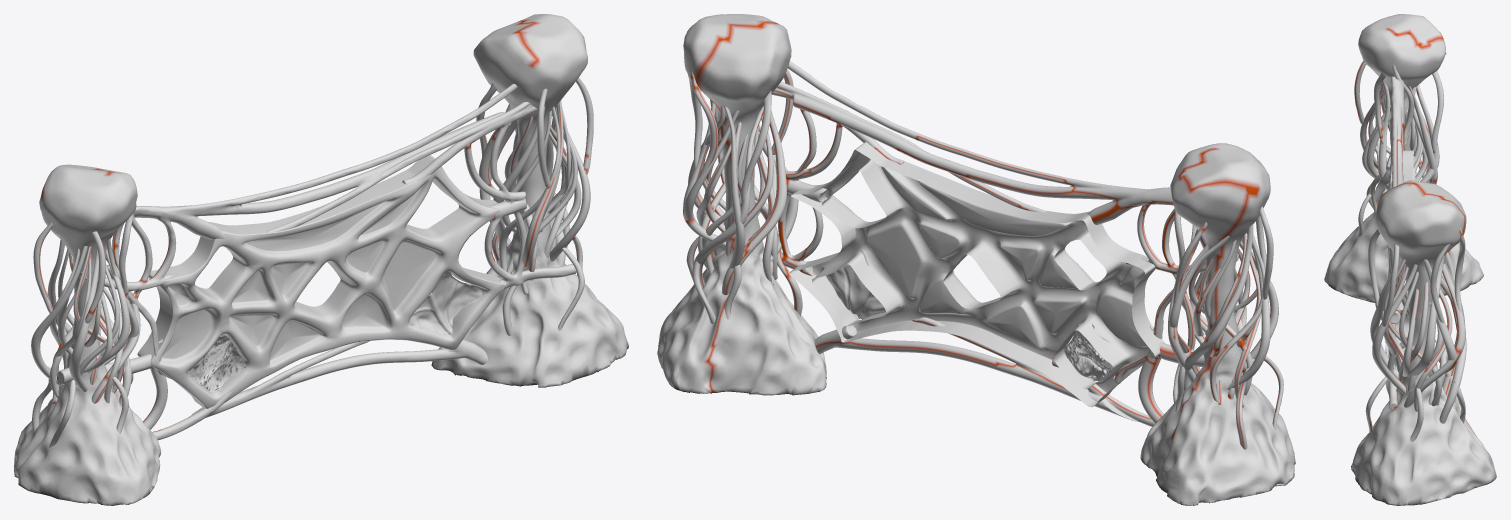
The model's file is SM_Trou3_low.fbx.
3 views of the same model, side by side, from view 1: azimuth 30°, elevation 25°; view 2: azimuth 150°, elevation 25°; view 3: azimuth 270°, elevation 25° (orthographic). The views are drawn at different scales.
Visible parts, largest first — view 1: HolePillar_013_SeamsColor, polySurface5, PM3D_Cylinder3D1_3_SeamsColor, HolePillar_089; view 2: HolePillar_013_SeamsColor, polySurface5, PM3D_Cylinder3D1_3_SeamsColor, HolePillar_089; view 3: HolePillar_013_SeamsColor, PM3D_Cylinder3D1_3_SeamsColor, polySurface5.
Boxes of the visible parts, x1=… form: HolePillar_013_SeamsColor: x1=14, y1=14, x2=628, y2=505; polySurface5: x1=137, y1=155, x2=505, y2=408; PM3D_Cylinder3D1_3_SeamsColor: x1=57, y1=84, x2=576, y2=440; HolePillar_089: x1=187, y1=271, x2=484, y2=394; HolePillar_013_SeamsColor: x1=657, y1=14, x2=1295, y2=505; polySurface5: x1=789, y1=142, x2=1165, y2=407; PM3D_Cylinder3D1_3_SeamsColor: x1=771, y1=61, x2=1254, y2=426; HolePillar_089: x1=826, y1=249, x2=1113, y2=380; HolePillar_013_SeamsColor: x1=1324, y1=14, x2=1496, y2=505; PM3D_Cylinder3D1_3_SeamsColor: x1=1388, y1=76, x2=1404, y2=410; polySurface5: x1=1385, y1=150, x2=1415, y2=394.
Size of the model in its own units: 3490 by 1817 by 1006.
